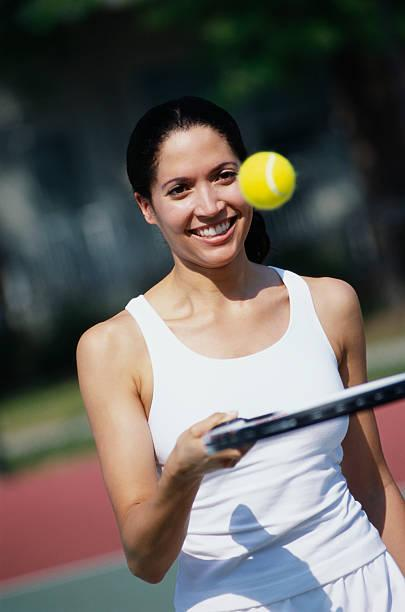ball_tennis: (238, 152, 297, 211)
